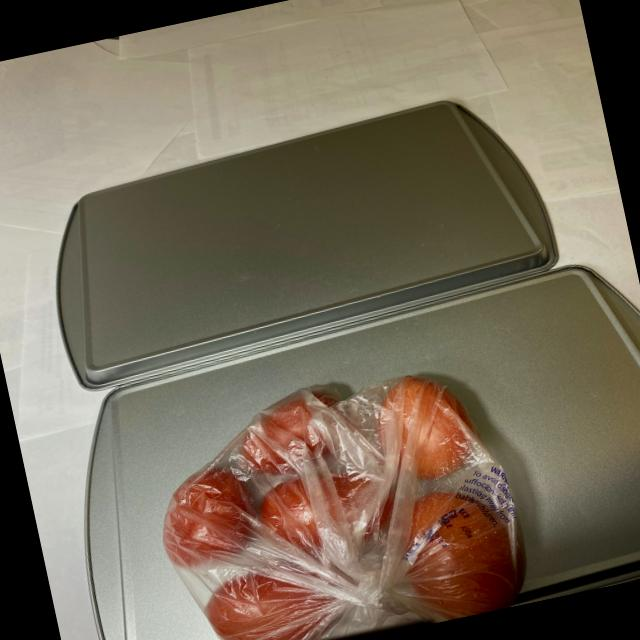tomato: (134, 358, 532, 640)
